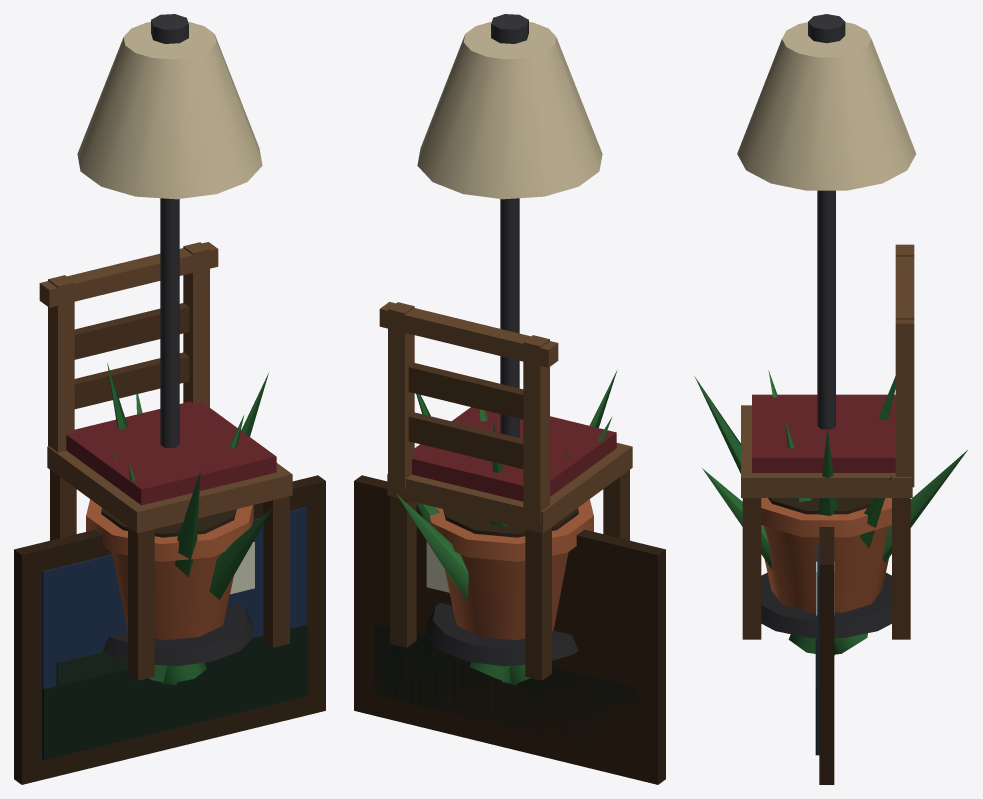
The model's file is props.glb.
The picture shows the model from 3 angles, left to right: view 1: azimuth 30°, elevation 25°; view 2: azimuth 150°, elevation 25°; view 3: azimuth 270°, elevation 25°; orthographic projection. The views are drawn at different scales.
Visible parts, largest first — view 1: Picture, Chair, Lamp, Plant; view 2: Picture, Chair, Lamp, Plant; view 3: Lamp, Chair, Plant, Picture.
Part boxes in pixels (x1,y1,x2,y2): Picture: (14,475,325,784); Chair: (39,242,292,680); Lamp: (77,14,262,666); Plant: (86,363,271,685); Picture: (354,475,665,784); Chair: (379,302,632,680); Lamp: (417,14,602,666); Plant: (396,370,617,685); Lamp: (737,14,916,637); Chair: (741,244,914,639); Plant: (694,370,967,655); Picture: (815,527,834,784).
Size of the model in its own units: 0.9 by 2.05 by 0.7353.
